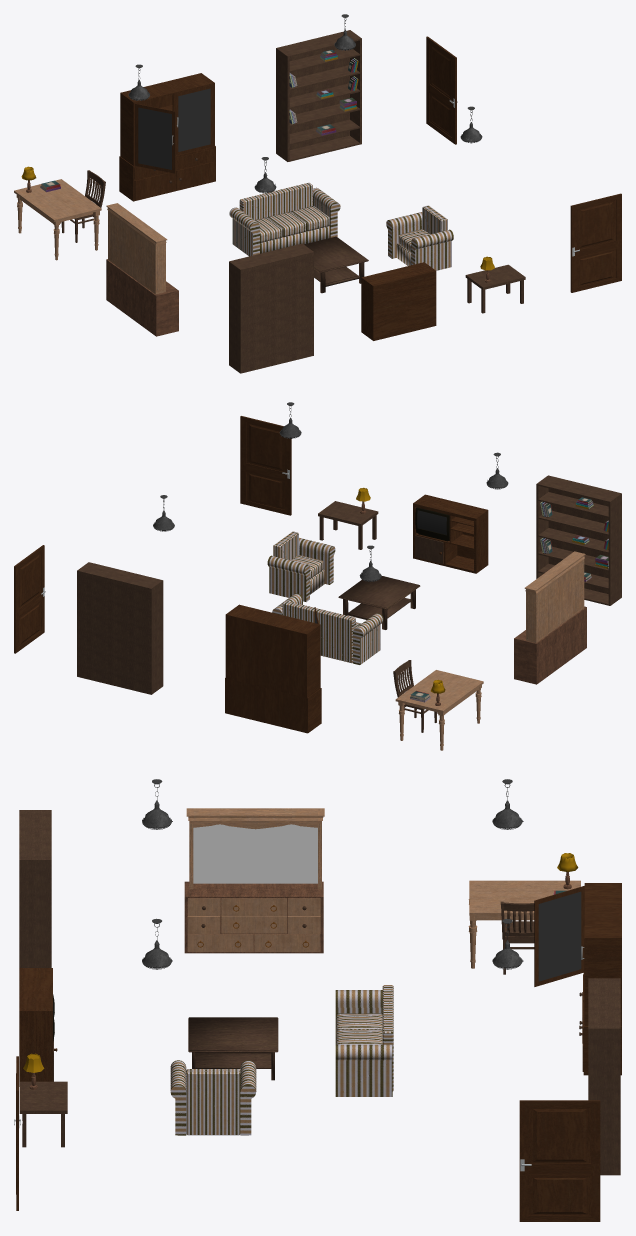
The model's file is Room 1 props.fbx.
The picture shows the model from 3 angles, top to bottom: view 1: azimuth 30°, elevation 25°; view 2: azimuth 150°, elevation 25°; view 3: azimuth 270°, elevation 25°; orthographic projection. The views are drawn at different scales.
Visible parts, largest first — view 1: Left Leg.001, books, Book shelve 2, Cabinet base, Tv, Locked Door, books.002, Reflective Mirror, Drawer base, Dore For next level, door 1, door 1.001 (+1 smaller); view 2: Cabinet base, books, Left Leg.001, Book shelve 2, Tv, Locked Door, Reflective Mirror, books.002, Drawer base, Dore For next level, Wood; view 3: Left Leg.001, Dore For next level, Mirror, books, Book shelve 2, books.002, Cabinet base, door 1, Tv, Drawer base, Reflective Mirror, Cabin 8 (+10 smaller).
Boxes of the visible parts, left/top/right/bottom form: Left Leg.001: left=229, top=182, right=453, bottom=293; books: left=276, top=30, right=361, bottom=161; Book shelve 2: left=229, top=243, right=313, bottom=373; Cabinet base: left=119, top=73, right=215, bottom=201; Tv: left=361, top=262, right=436, bottom=340; Locked Door: left=570, top=193, right=621, bottom=292; books.002: left=14, top=166, right=105, bottom=260; Reflective Mirror: left=106, top=203, right=167, bottom=294; Drawer base: left=106, top=259, right=178, bottom=336; Dore For next level: left=426, top=36, right=457, bottom=144; door 1: left=135, top=103, right=175, bottom=173; door 1.001: left=175, top=84, right=213, bottom=155; Cabinet base: left=225, top=604, right=321, bottom=733; books: left=77, top=562, right=163, bottom=694; Left Leg.001: left=267, top=531, right=420, bottom=664; Book shelve 2: left=536, top=475, right=621, bottom=605; Tv: left=413, top=494, right=488, bottom=573; Locked Door: left=240, top=416, right=291, bottom=515; Reflective Mirror: left=524, top=551, right=585, bottom=642; books.002: left=393, top=660, right=483, bottom=750; Drawer base: left=514, top=606, right=586, bottom=684; Dore For next level: left=14, top=545, right=45, bottom=653; Wood: left=318, top=487, right=378, bottom=549; Left Leg.001: left=170, top=985, right=393, bottom=1135; Dore For next level: left=519, top=1100, right=600, bottom=1221; Mirror: left=193, top=824, right=317, bottom=883; books: left=588, top=978, right=620, bottom=1175; Book shelve 2: left=19, top=810, right=51, bottom=967; books.002: left=468, top=853, right=580, bottom=974; Cabinet base: left=579, top=883, right=621, bottom=1075; door 1: left=534, top=886, right=584, bottom=986; Tv: left=19, top=968, right=57, bottom=1086; Drawer base: left=184, top=881, right=323, bottom=953; Reflective Mirror: left=186, top=808, right=324, bottom=889; Cabin 8: left=187, top=934, right=320, bottom=951.
Bounding box in the file's own units: 10.77 × 3.93 × 9.66.
Materials: 23 (16 with a texture image).
